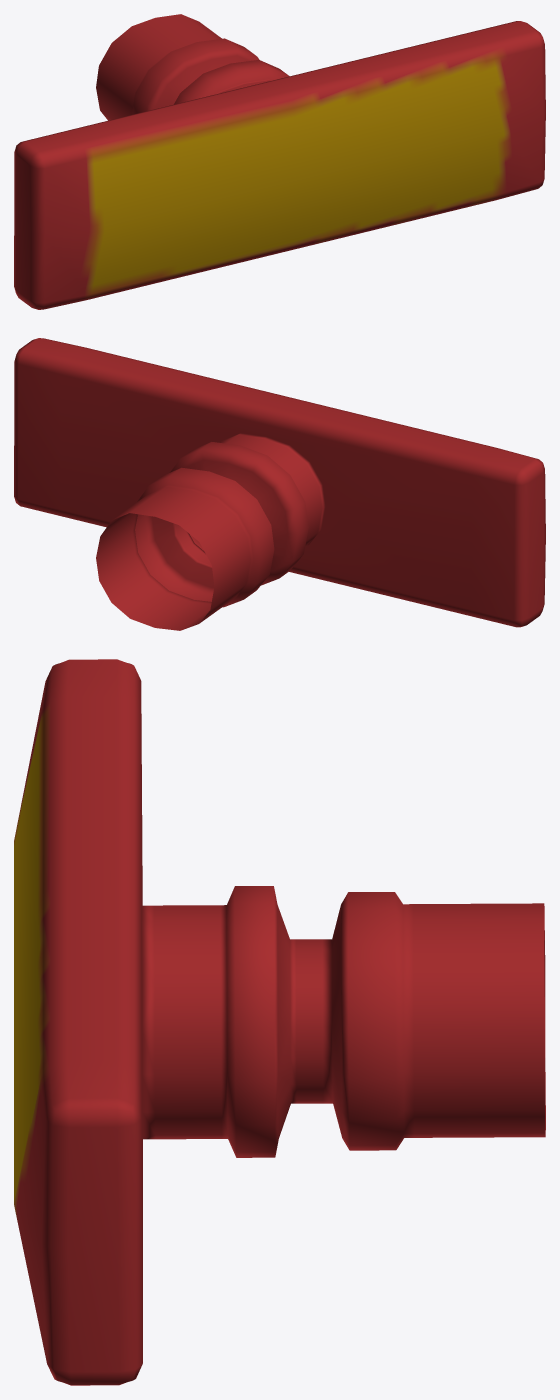
The model's file is Pressure Lock.fbx.
The picture shows the model from 3 angles, top to bottom: view 1: azimuth 30°, elevation 25°; view 2: azimuth 150°, elevation 25°; view 3: azimuth 270°, elevation 25°; orthographic projection. The views are drawn at different scales.
Visible parts, largest first — view 1: Pressure Lock; view 2: Pressure Lock; view 3: Pressure Lock.
Boxes of the visible parts, <box> form: Pressure Lock: <box>14,14,545,309</box>; Pressure Lock: <box>14,338,545,630</box>; Pressure Lock: <box>14,659,545,1385</box>.
Bounding box in the file's own units: 25.65 × 7.57 × 12.69.
1 material, 1 textured.
